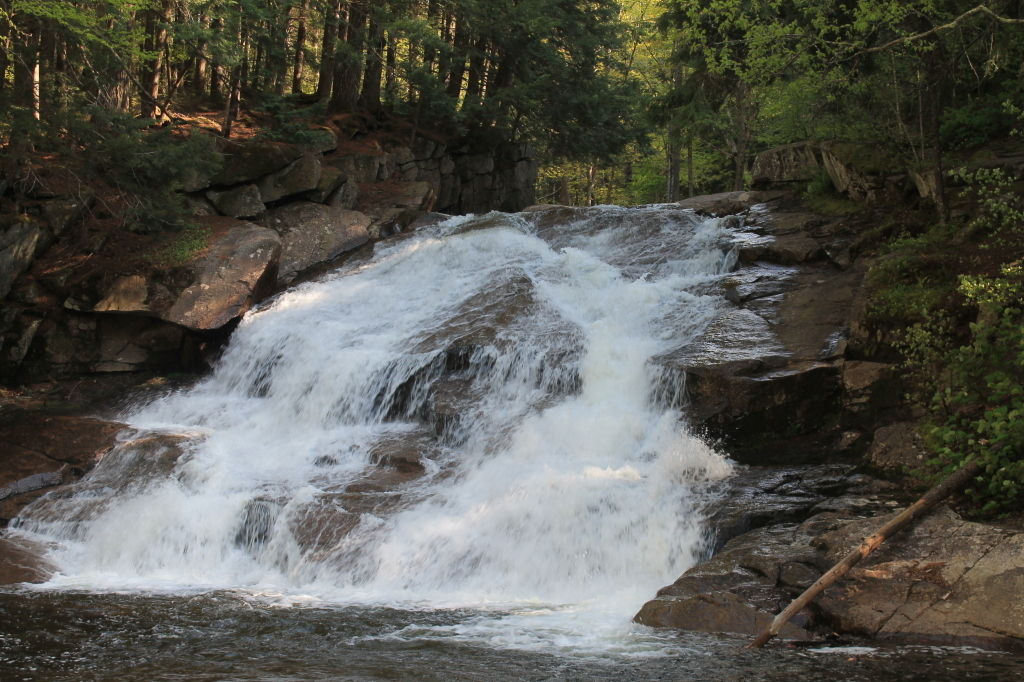Tree: (0, 2, 332, 250), (640, 0, 1020, 196), (394, 0, 640, 164), (353, 0, 385, 105)
